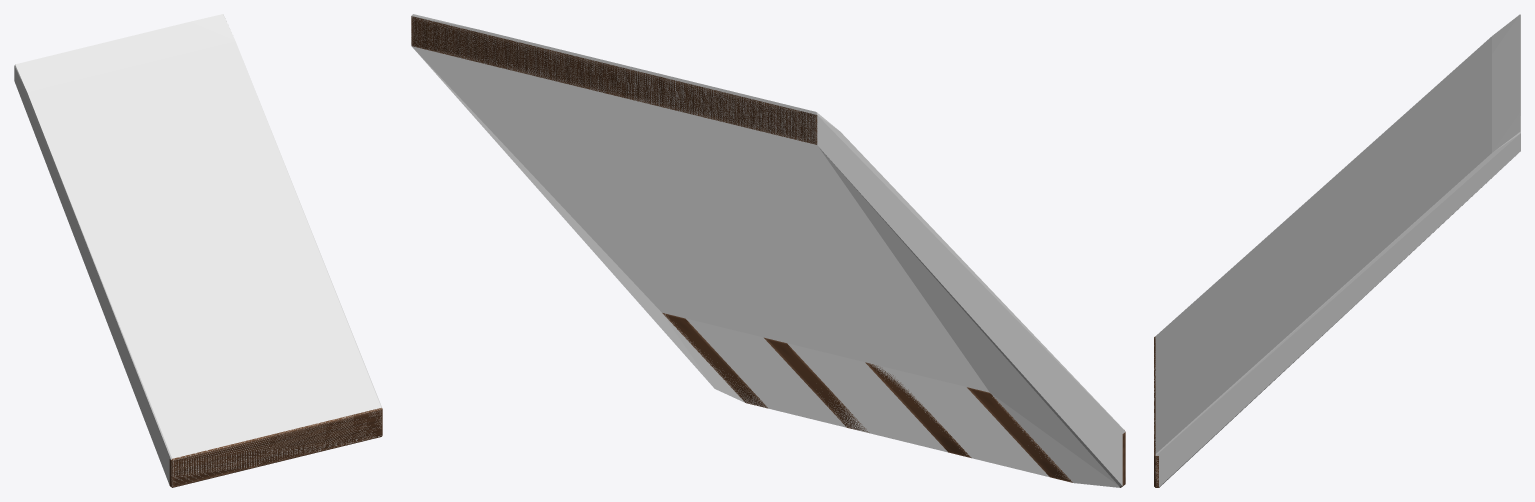
The model's file is house_roof_section.glb.
3 views of the same model, side by side, from view 1: azimuth 30°, elevation 25°; view 2: azimuth 150°, elevation 25°; view 3: azimuth 270°, elevation 25° (orthographic). The views are drawn at different scales.
Visible parts, largest first — view 1: COL_house_roof_section_static_00, house_roof_section_static; view 2: COL_house_roof_section_static_00, house_roof_section_static; view 3: COL_house_roof_section_static_00, house_roof_section_static.
Part boxes in pixels (x1,y1,x2,y2): COL_house_roof_section_static_00: (14, 14, 382, 486); house_roof_section_static: (169, 408, 382, 487); COL_house_roof_section_static_00: (411, 14, 1125, 487); house_roof_section_static: (411, 16, 1125, 487); COL_house_roof_section_static_00: (1154, 14, 1520, 486); house_roof_section_static: (1154, 336, 1159, 487).
Bounding box in the file's own units: 2.02 × 2.81 × 2.62.
Materials: 2 (2 with a texture image).
